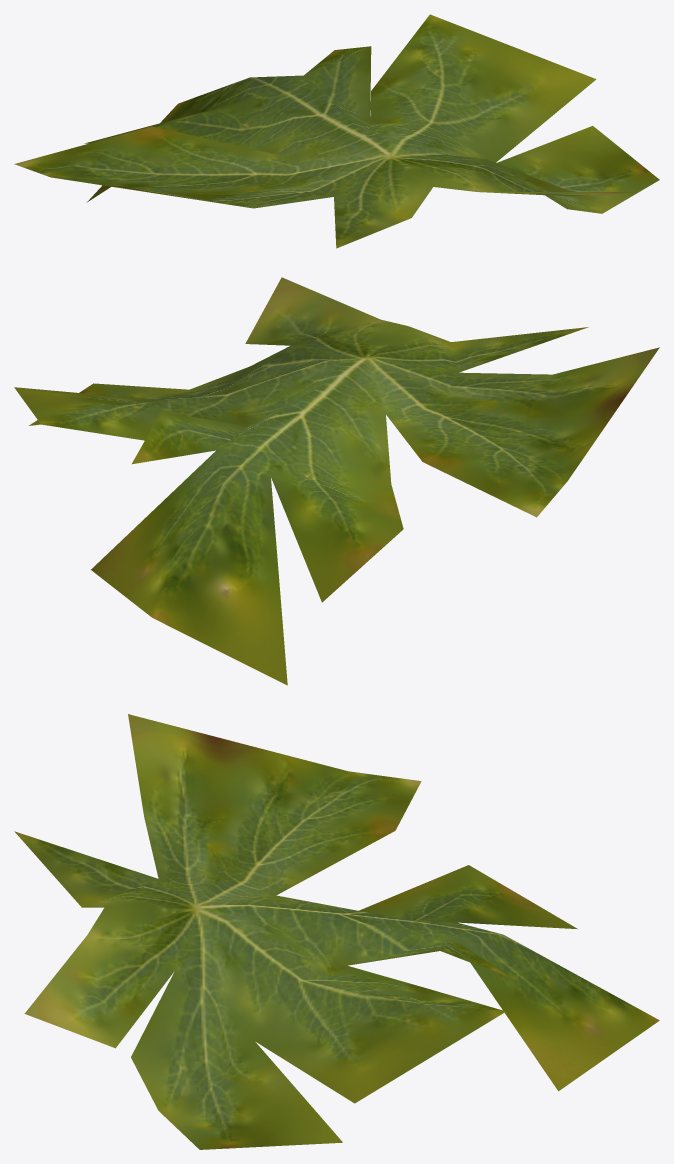
The model's file is Papaya_Leaf01.fbx.
3 renders of one model, top to bottom at view 1: azimuth 30°, elevation 25°; view 2: azimuth 150°, elevation 25°; view 3: azimuth 270°, elevation 25°, orthographic. The views are drawn at different scales.
Visible parts, largest first — view 1: papaya_leaf01_LOD0; view 2: papaya_leaf01_LOD0; view 3: papaya_leaf01_LOD0.
Boxes of the visible parts, bbox=[...] form: papaya_leaf01_LOD0: bbox=[14, 14, 659, 248]; papaya_leaf01_LOD0: bbox=[14, 277, 659, 685]; papaya_leaf01_LOD0: bbox=[14, 714, 659, 1149].
Size of the model in its own units: 0.6293 by 0.229 by 0.5867.
